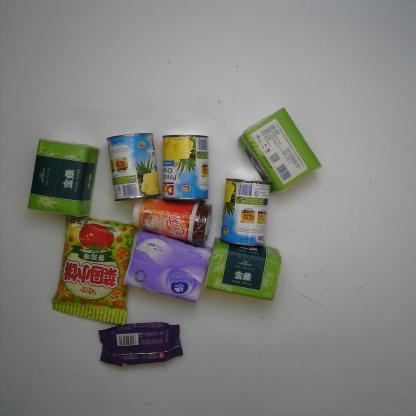Canned Food: (105, 131, 161, 204), (158, 131, 214, 203), (218, 177, 272, 247)
Dessert: (97, 320, 183, 368)
Instant Drink: (130, 195, 214, 249)
Puffed Food: (50, 214, 140, 326)
Tissue: (237, 106, 324, 196), (124, 228, 213, 303), (26, 138, 102, 220), (204, 237, 282, 301)
